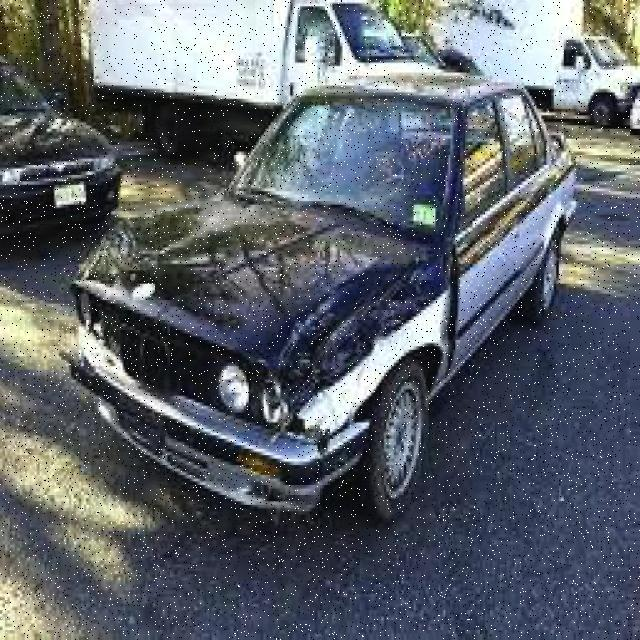car damage: (264, 252, 456, 465)
